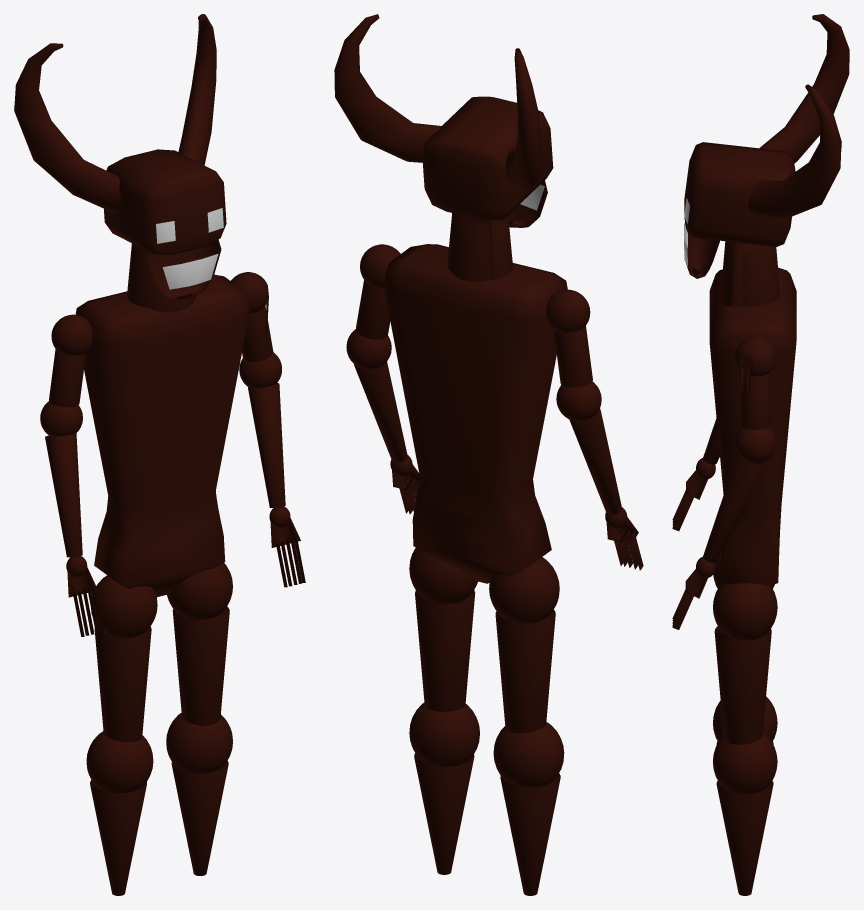
The model's file is demon1.3 1.fbx.
The picture shows the model from 3 angles, left to right: view 1: azimuth 30°, elevation 25°; view 2: azimuth 150°, elevation 25°; view 3: azimuth 270°, elevation 25°; orthographic projection. The views are drawn at different scales.
Visible parts, largest first — view 1: Cylinder.001; view 2: Cylinder.001; view 3: Cylinder.001.
Boxes of the visible parts, x1,y1,x2,y2 form: Cylinder.001: (14, 14, 305, 895); Cylinder.001: (334, 14, 643, 895); Cylinder.001: (672, 14, 849, 895).
Size of the model in its own units: 323 by 1072 by 208.
